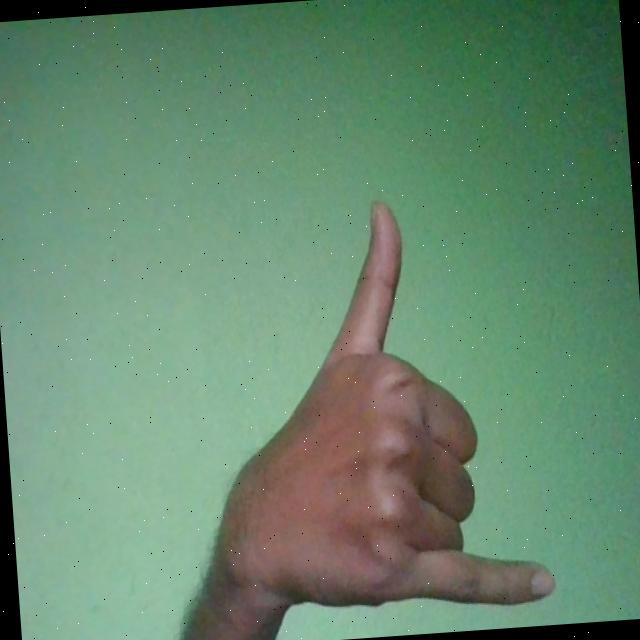Call Me: (189, 188, 557, 624)
